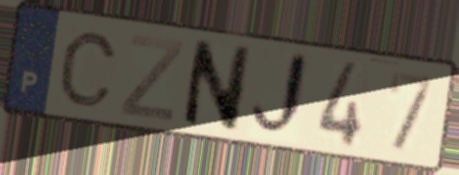4: (316, 59, 367, 150)
7: (384, 69, 435, 156)
C: (56, 29, 120, 109)
J: (247, 47, 312, 142)
N: (178, 36, 255, 135)
Z: (117, 32, 187, 125)
